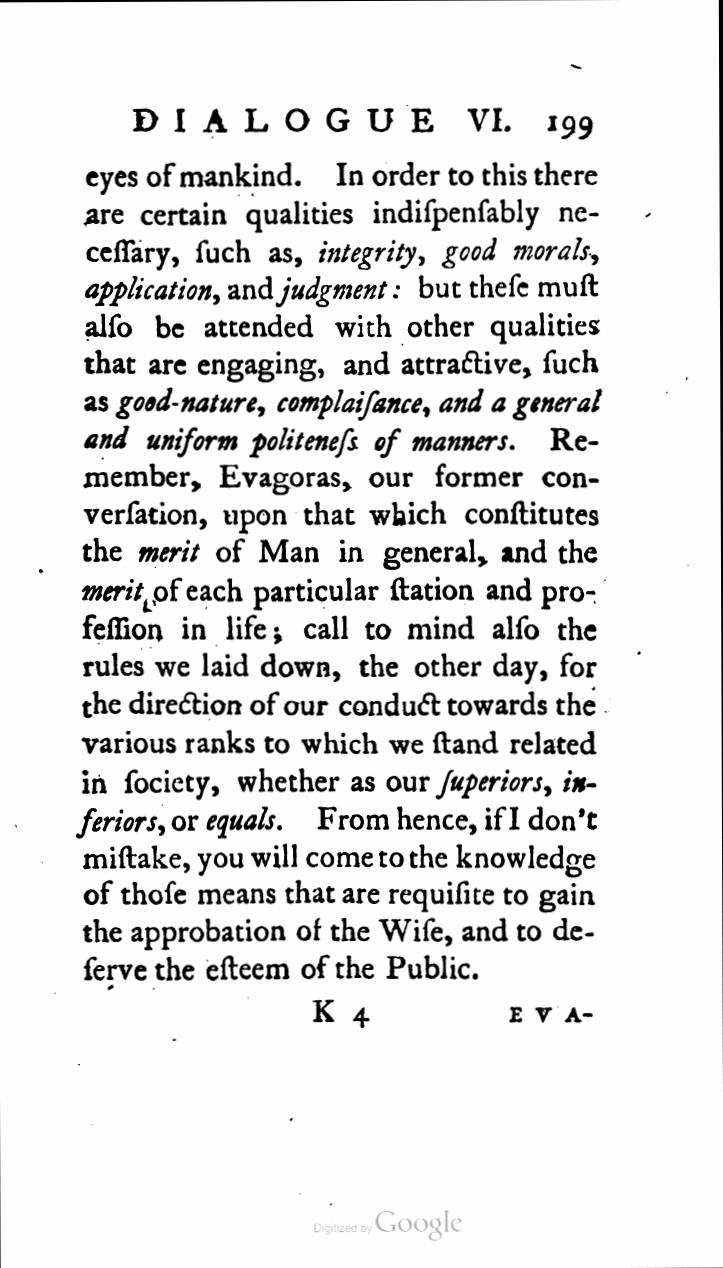bottom_p: (77, 155, 606, 985)
catchword: (508, 1000, 599, 1031)
header: (130, 98, 516, 140)
page_num: (542, 110, 597, 144)
signature: (308, 997, 374, 1032)
